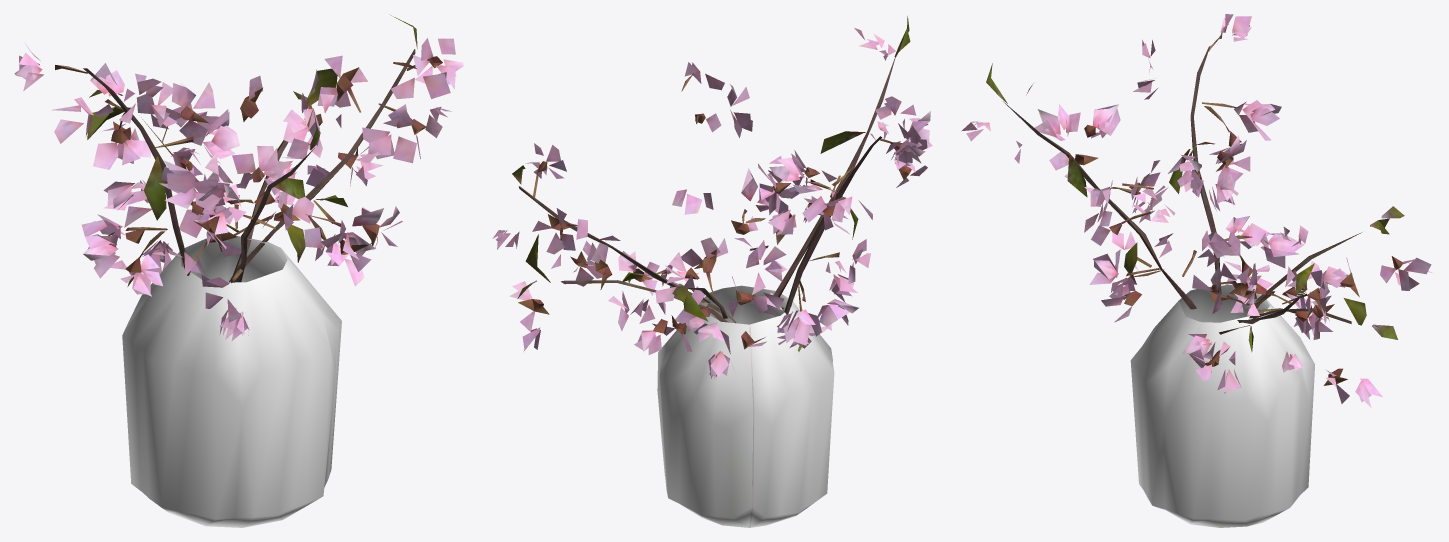
Rendered from Vase0011.obj.
3 views of the same model, side by side, from view 1: azimuth 30°, elevation 25°; view 2: azimuth 150°, elevation 25°; view 3: azimuth 270°, elevation 25° (orthographic). The views are drawn at different scales.
Bounding box in the file's own units: 0.276 × 0.278 × 0.285.
Materials: 1 (1 with a texture image).
